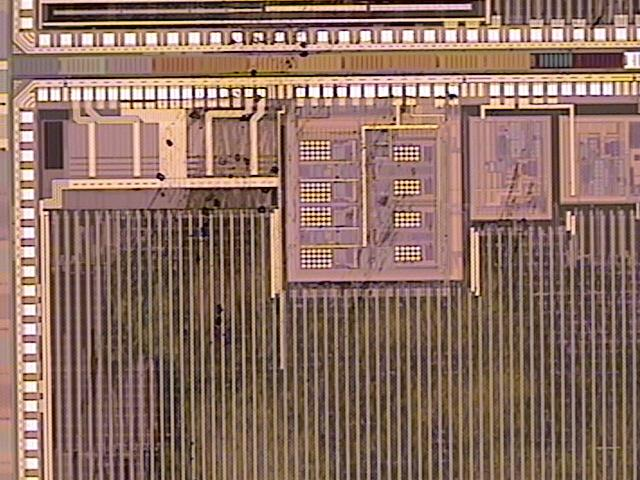PO CONTAMINATION: (129, 35, 541, 354)
